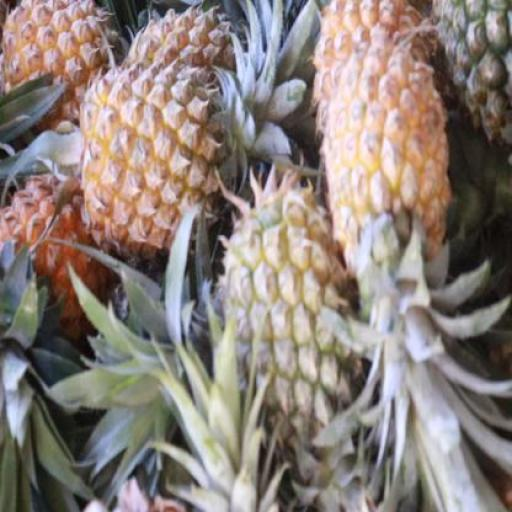------------------------------: (210, 187, 354, 437)
Pineapple - v8 v1: (329, 54, 444, 297), (89, 66, 226, 248)
